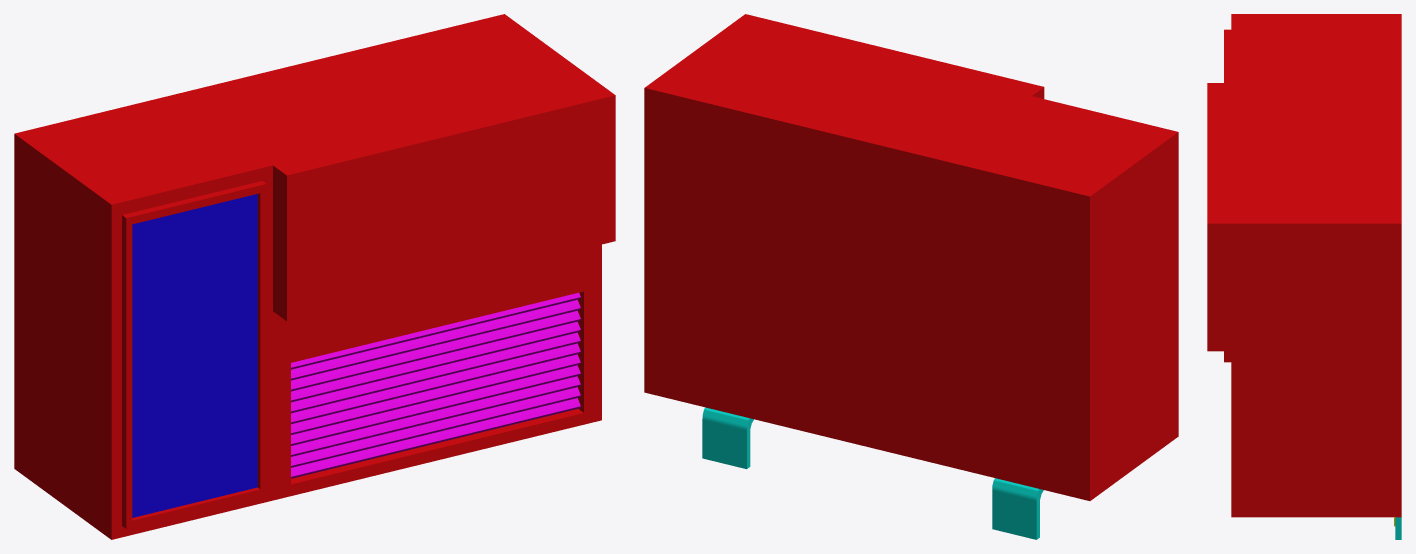
File: oldheater.fbx
3 views of the same model, side by side, from view 1: azimuth 30°, elevation 25°; view 2: azimuth 150°, elevation 25°; view 3: azimuth 270°, elevation 25° (orthographic). The views are drawn at different scales.
Parts seen in each view (by area): view 1: AC.001; view 2: AC.001; view 3: AC.001.
Part boxes in pixels (left/top/right/bottom): AC.001: left=14, top=14, right=615, bottom=539; AC.001: left=644, top=14, right=1178, bottom=539; AC.001: left=1207, top=14, right=1401, bottom=539.
Size of the model in its own units: 1.29 by 0.988 by 0.5072.
